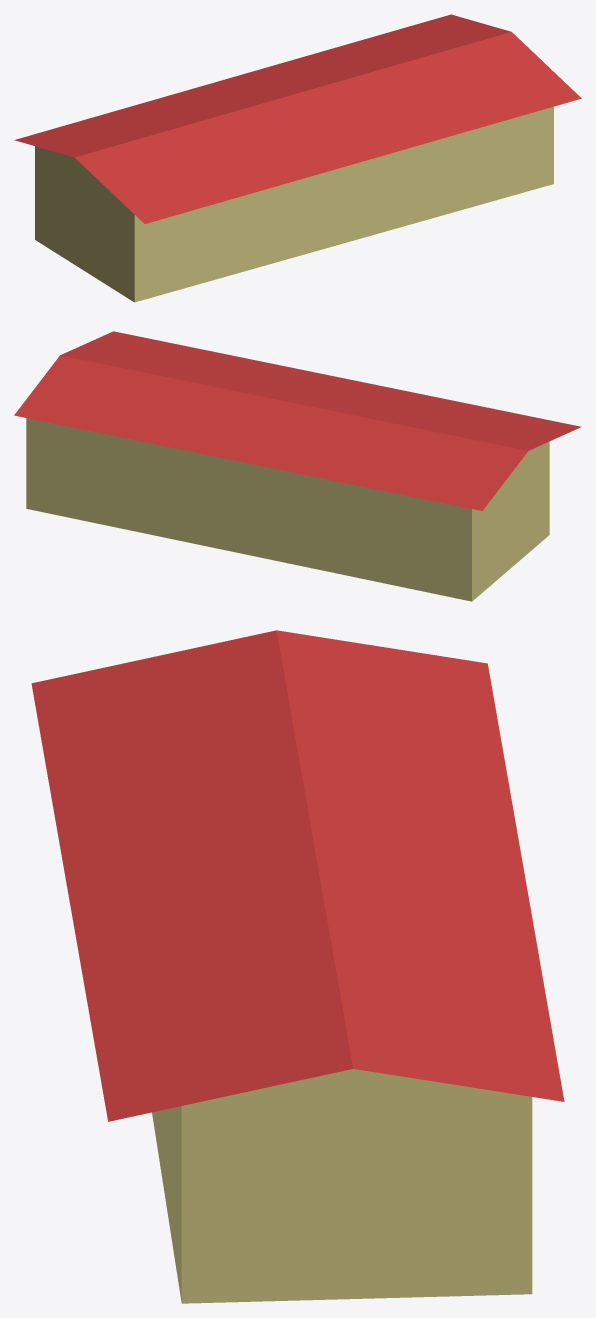
3 views of the same model, one above another, from view 1: azimuth 30°, elevation 25°; view 2: azimuth 150°, elevation 25°; view 3: azimuth 270°, elevation 25° (orthographic). The views are drawn at different scales.
Size of the model in its own units: 40.54 by 20.17 by 9.85.
